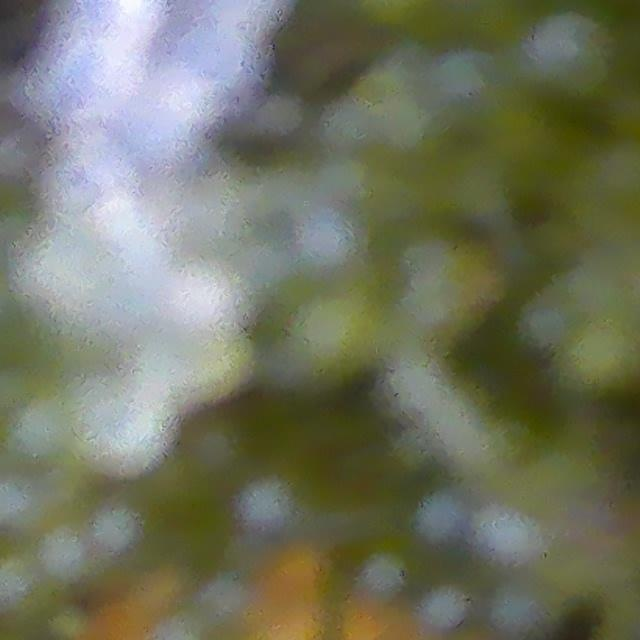SeaGrape: (518, 3, 620, 105), (76, 378, 164, 477), (154, 259, 243, 346), (557, 311, 640, 400), (420, 43, 502, 128), (177, 17, 270, 89), (61, 27, 138, 112), (410, 487, 473, 550), (46, 160, 98, 217), (86, 200, 138, 257)
